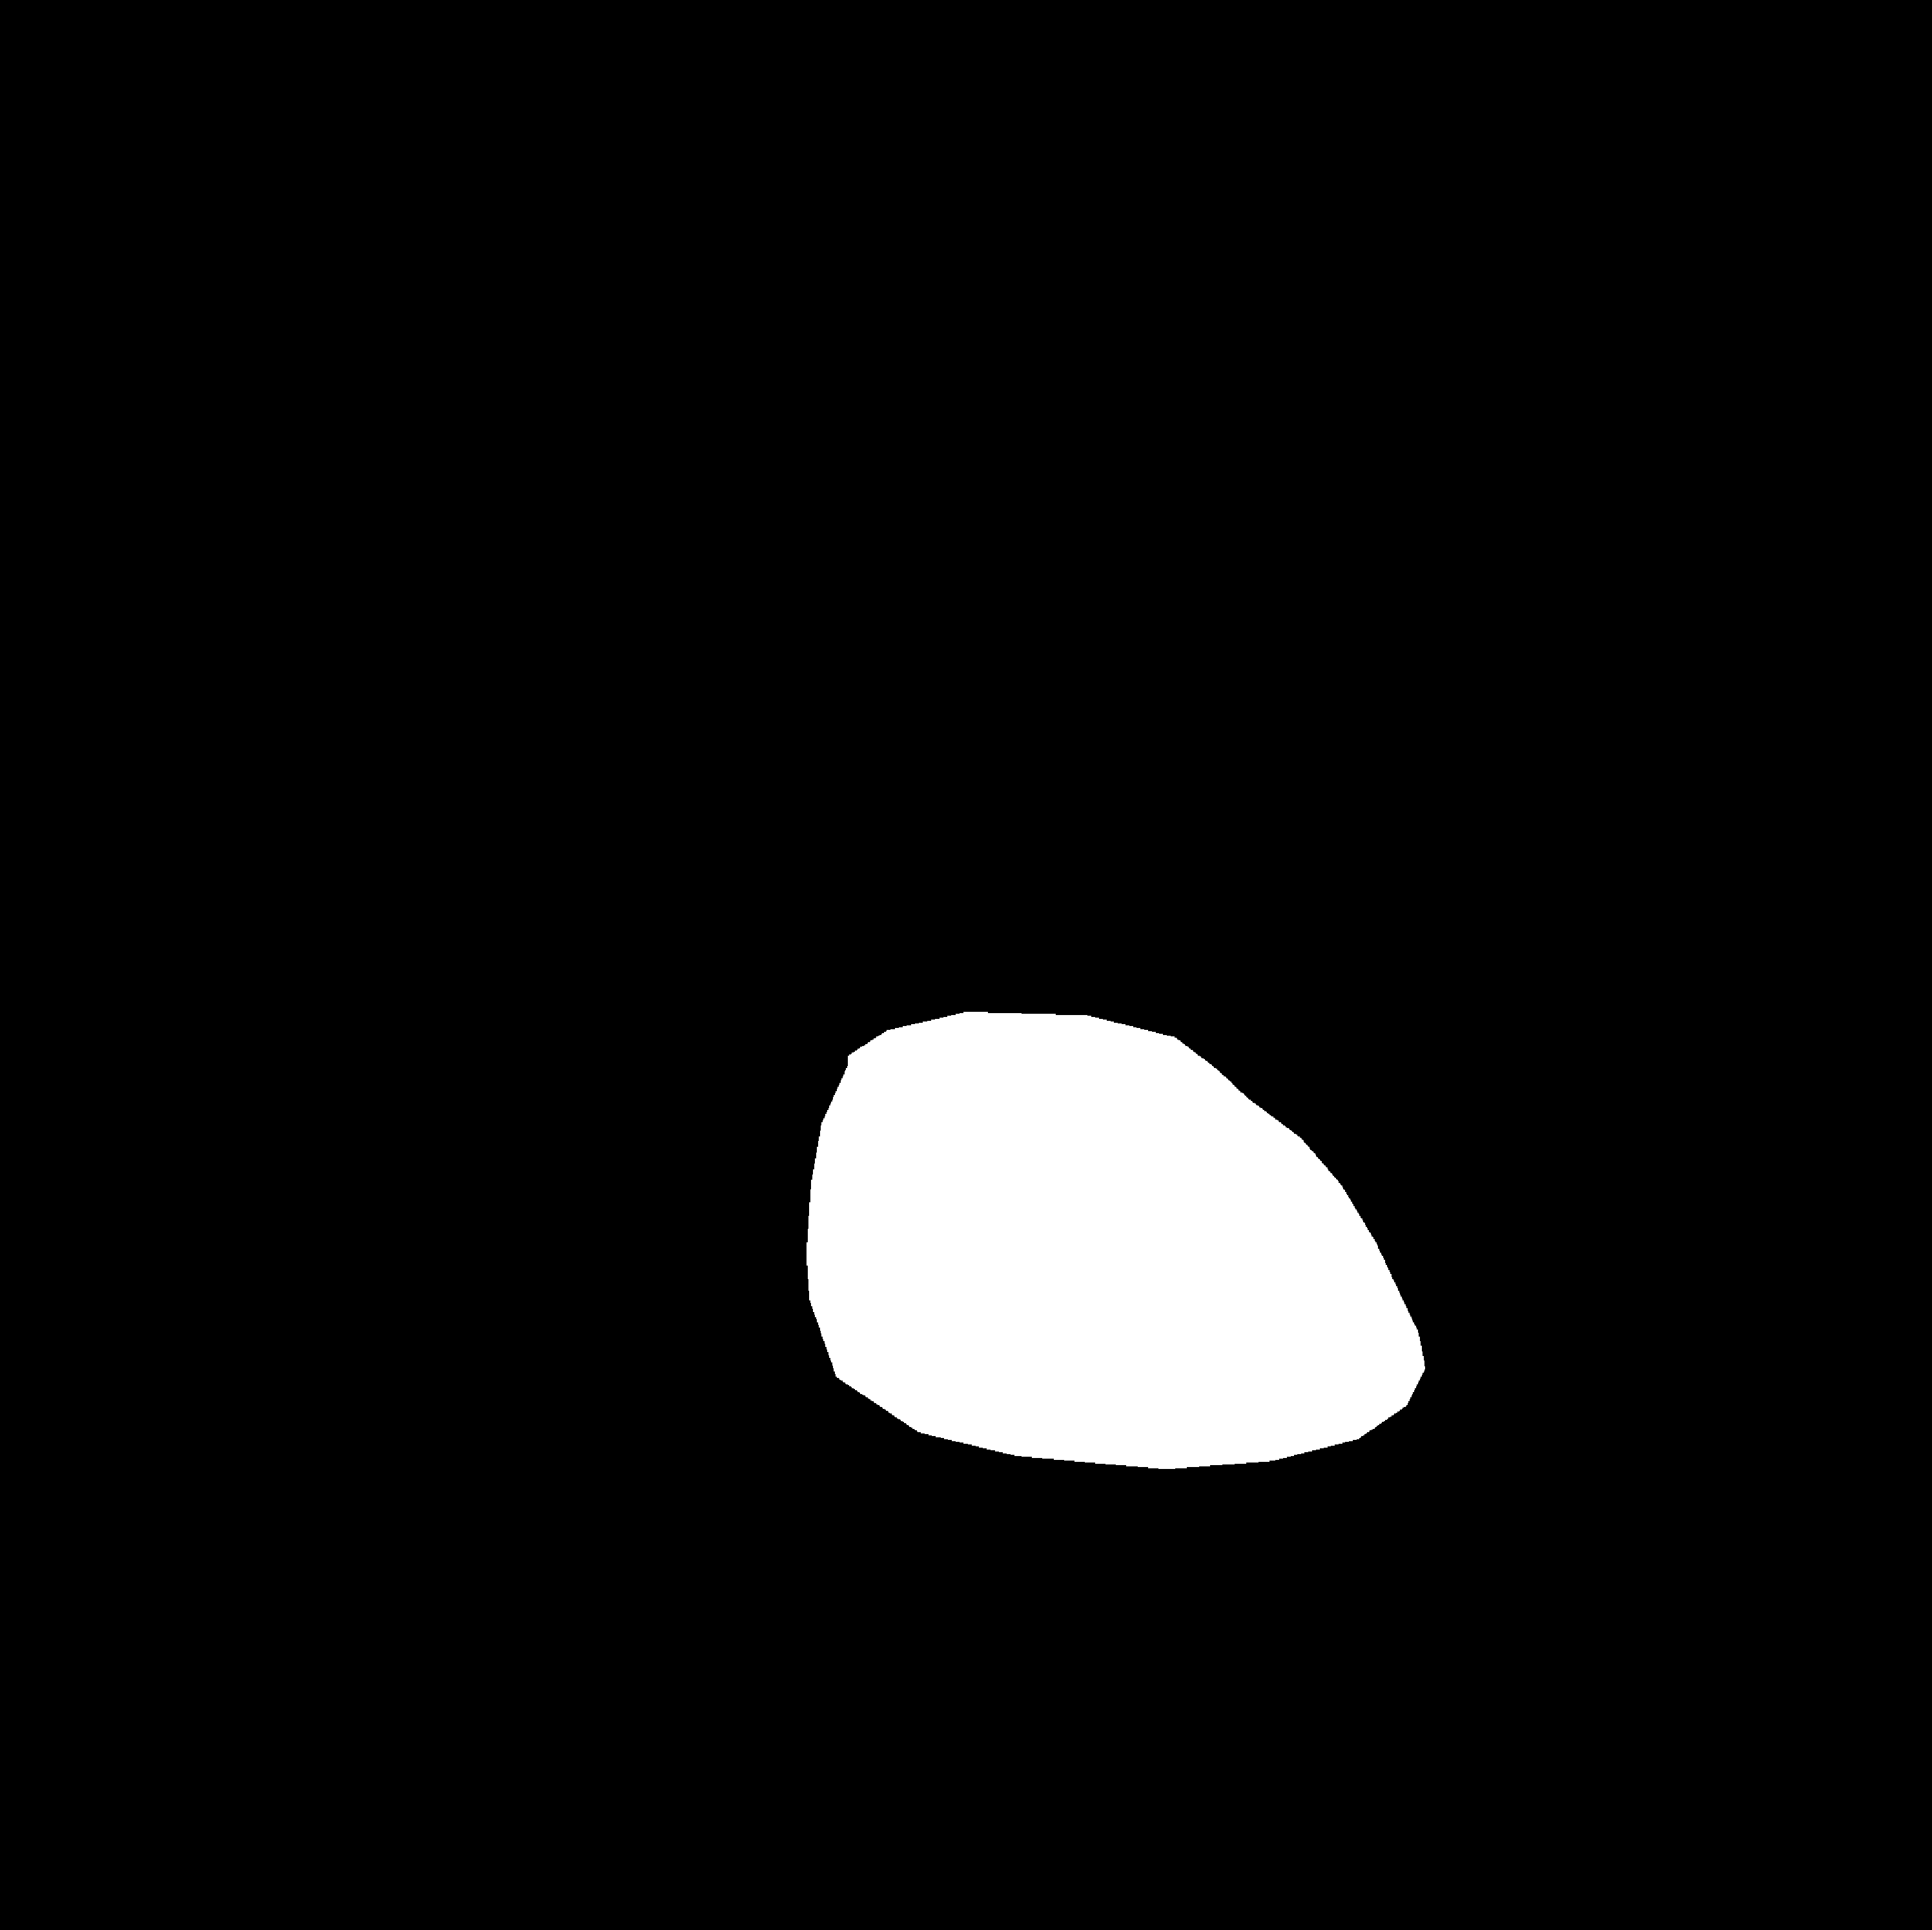heart: (810, 1060, 1428, 1539)
left_lung: (348, 401, 900, 1569)
right_lung: (1075, 378, 1667, 1559)
